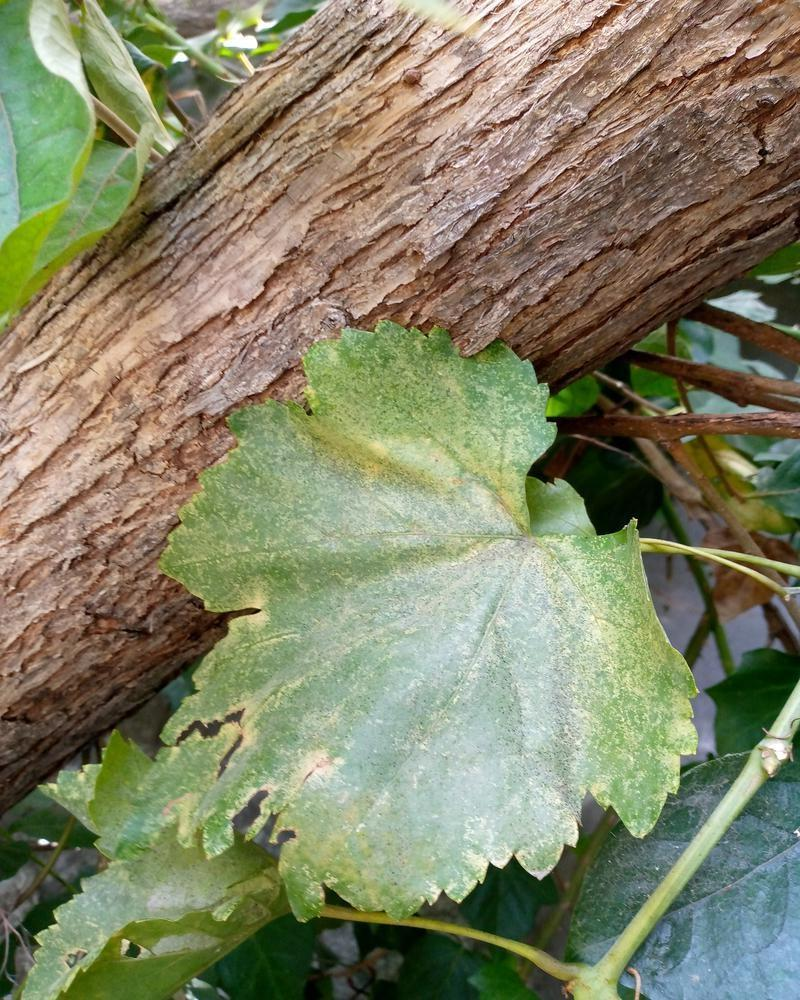Powdery-Mildew: (160, 416, 655, 894), (549, 588, 648, 679), (401, 689, 452, 733)
